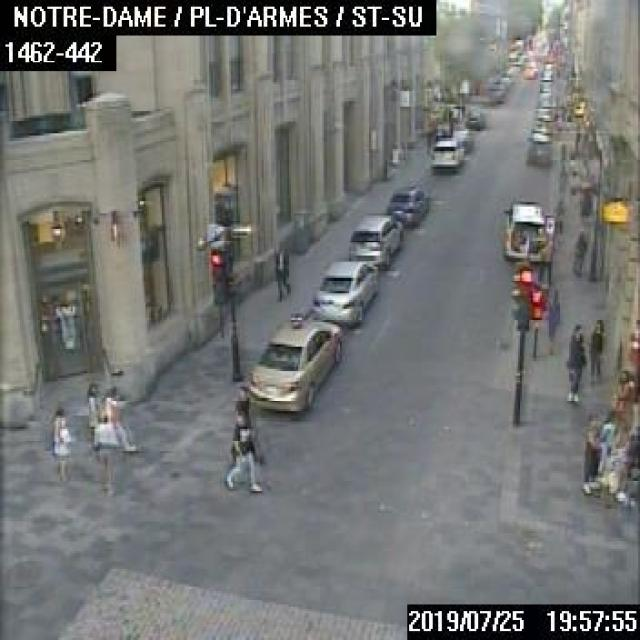pedestrian: (224, 411, 260, 489), (102, 382, 137, 450), (49, 404, 75, 478), (92, 410, 115, 492), (615, 424, 638, 504), (564, 319, 585, 404), (584, 416, 605, 492), (586, 313, 608, 379), (534, 211, 552, 282), (611, 367, 633, 423), (85, 382, 100, 449), (273, 238, 289, 300), (546, 286, 558, 356), (571, 229, 585, 278), (553, 188, 564, 231), (558, 138, 569, 176), (636, 318, 638, 320)
vehicle: (245, 314, 343, 418), (310, 259, 380, 325), (349, 215, 401, 268), (500, 200, 544, 262), (386, 183, 430, 228), (431, 135, 464, 167), (524, 130, 551, 164), (452, 125, 472, 148), (532, 112, 551, 132), (463, 110, 483, 129), (532, 101, 552, 117), (536, 85, 551, 100), (538, 76, 552, 86)
